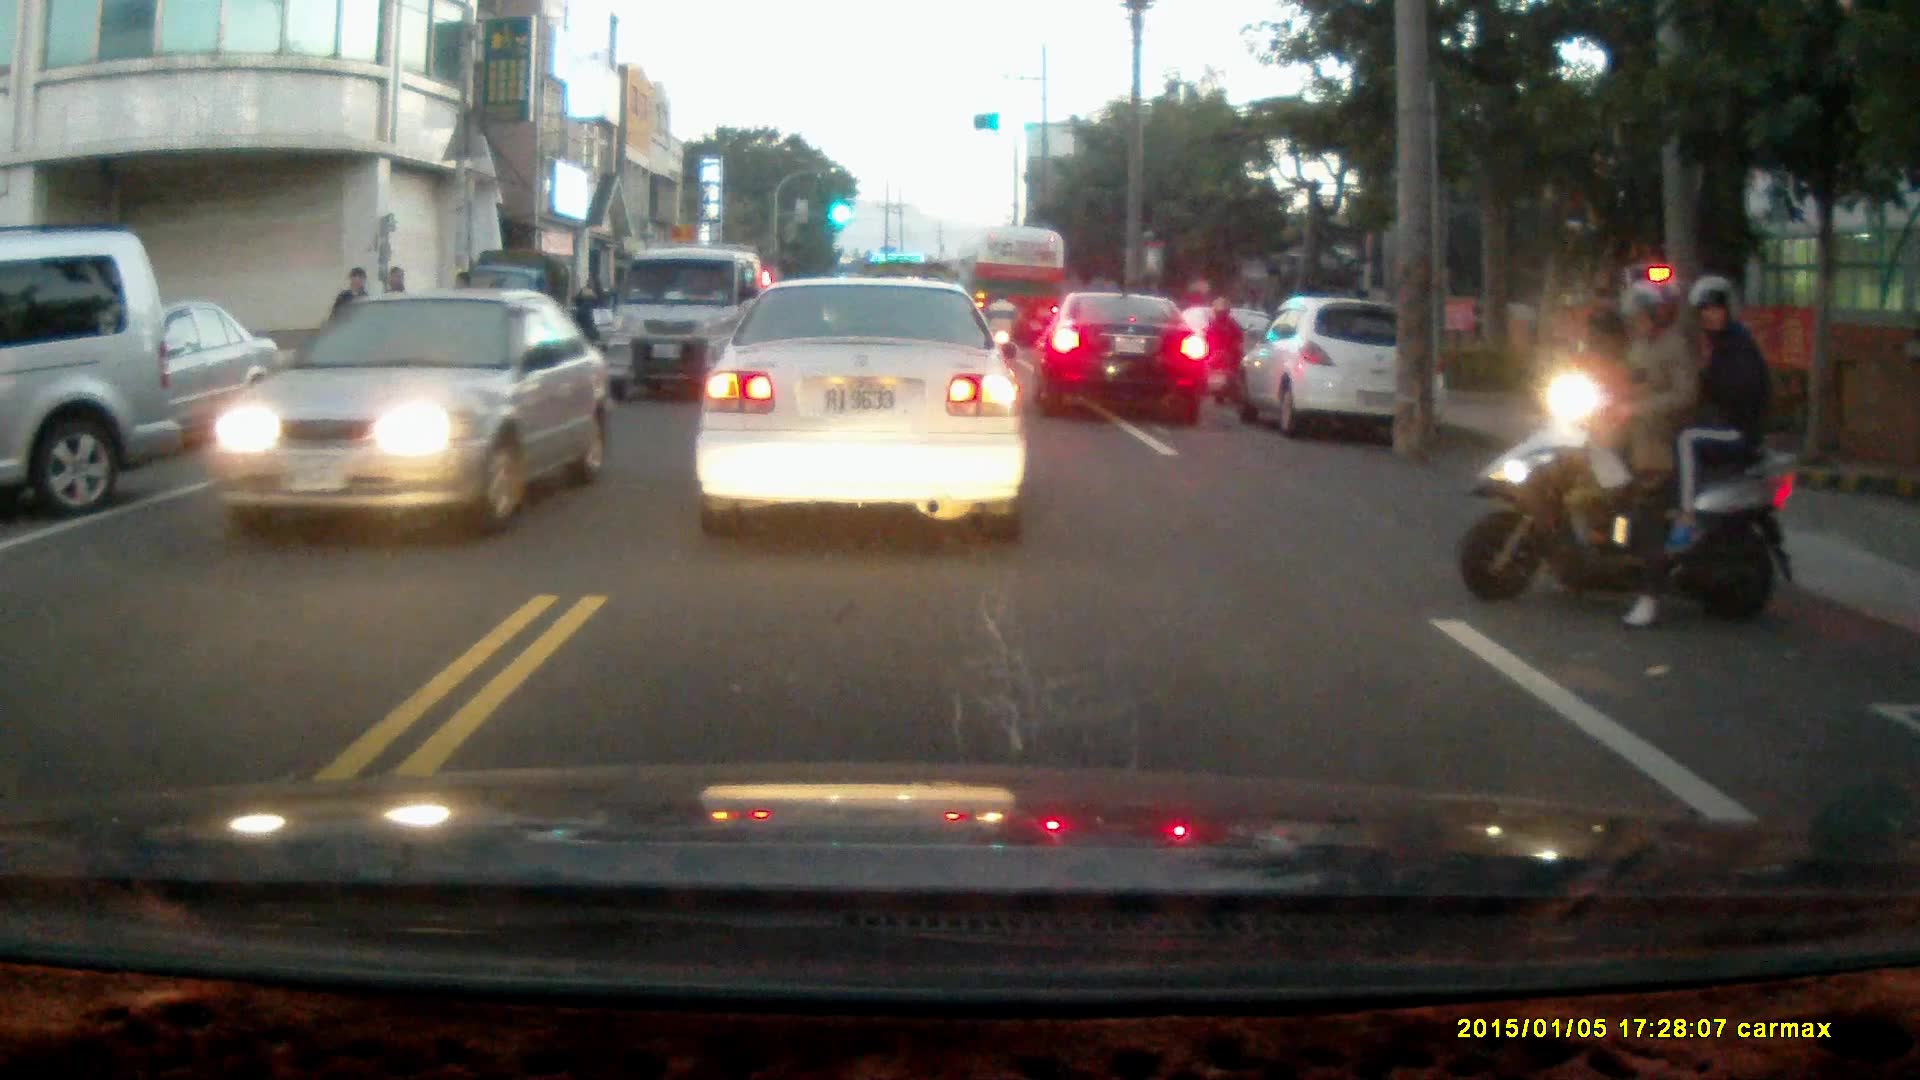pedestrian: (320, 265, 380, 431), (1579, 284, 1630, 405), (573, 269, 606, 361)
rider: (1461, 271, 1795, 634), (1198, 292, 1247, 405), (981, 288, 1020, 365)
vehicle: (214, 288, 611, 542), (693, 271, 1030, 543), (1, 225, 183, 516), (17, 297, 286, 459), (1242, 294, 1446, 439), (609, 244, 770, 400), (1033, 293, 1215, 424), (968, 224, 1072, 359)
